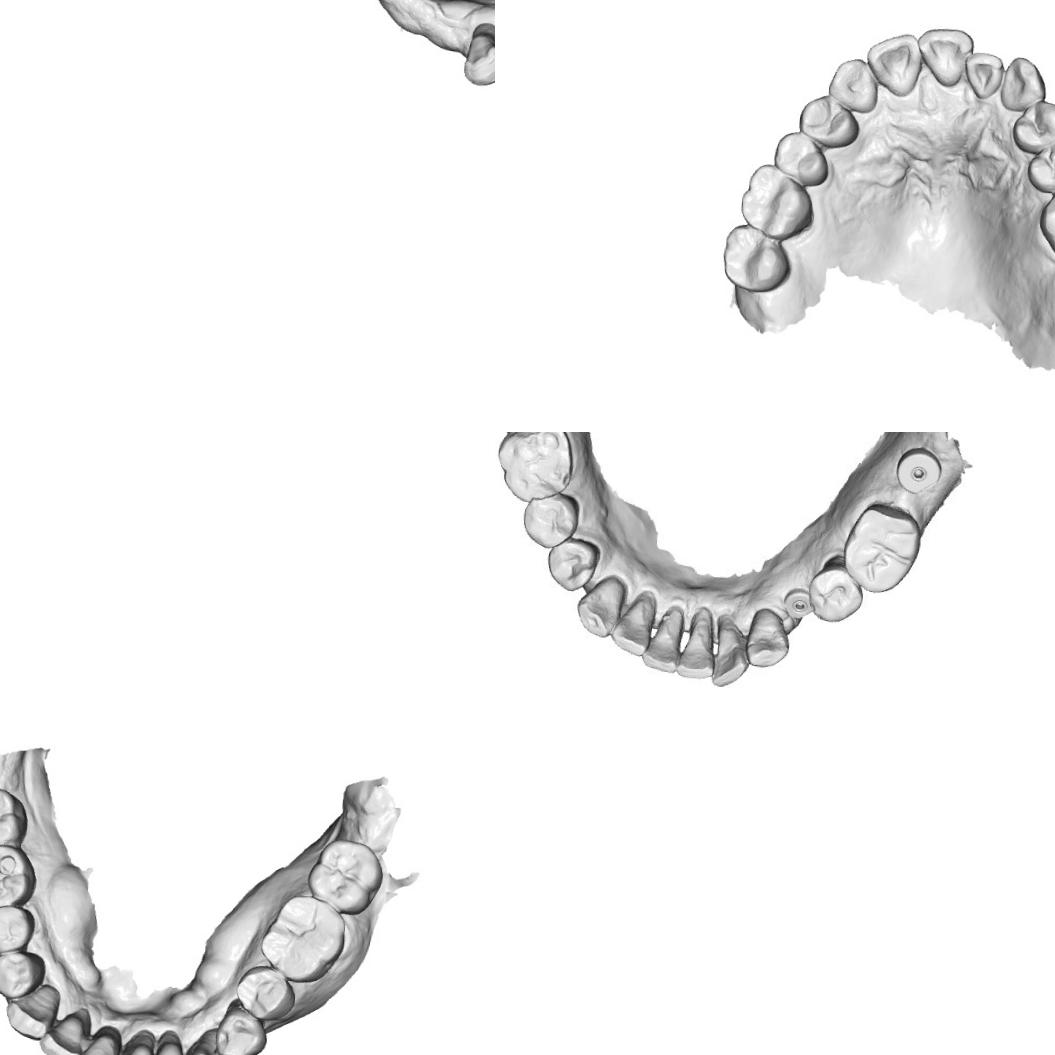canine: (572, 573, 628, 642), (2, 980, 62, 1042), (825, 55, 880, 114), (742, 606, 790, 670), (998, 54, 1048, 112), (180, 1028, 241, 1055)
implant: (894, 444, 941, 494), (782, 584, 814, 623)
incisor: (863, 29, 924, 98), (914, 24, 974, 88), (708, 608, 752, 690), (608, 591, 655, 658), (674, 616, 720, 682), (640, 611, 685, 673), (36, 1006, 87, 1055), (460, 19, 495, 88), (961, 50, 1004, 99), (73, 1026, 121, 1055), (143, 1030, 195, 1055), (110, 1032, 156, 1055)
molar: (255, 888, 349, 988), (838, 501, 924, 597), (302, 833, 387, 916), (738, 162, 816, 244), (495, 432, 578, 505), (720, 221, 792, 294), (0, 843, 38, 913), (0, 782, 31, 852), (1035, 176, 1055, 263)
premolar: (230, 962, 299, 1024), (518, 488, 582, 552), (806, 558, 863, 626), (542, 533, 603, 594), (797, 92, 861, 150), (771, 129, 831, 187), (212, 1005, 269, 1055), (0, 945, 49, 1002), (1010, 97, 1055, 156), (0, 901, 37, 956), (1024, 137, 1055, 195)
